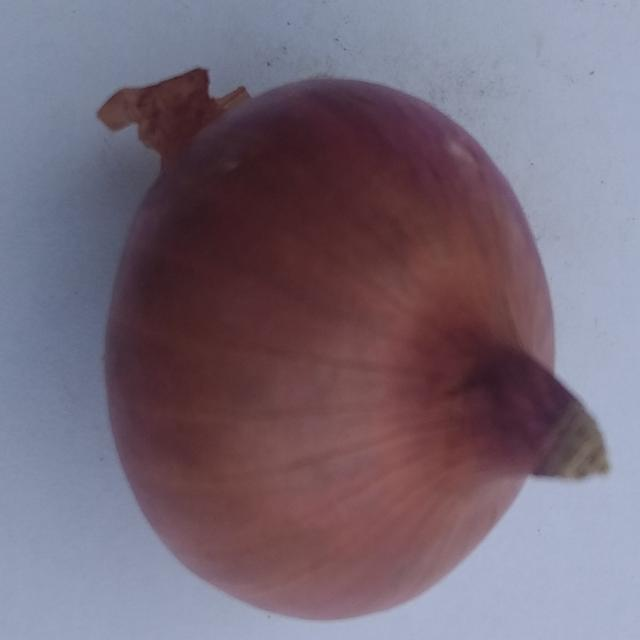onion: (94, 66, 613, 624)
